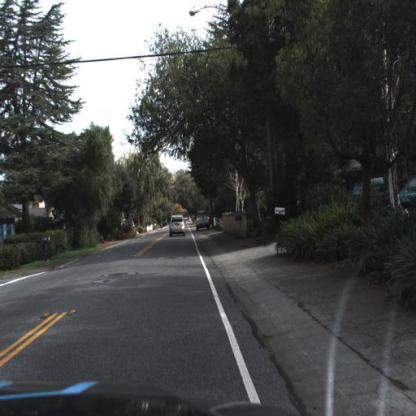car: (168, 215, 187, 238), (196, 210, 214, 233)
